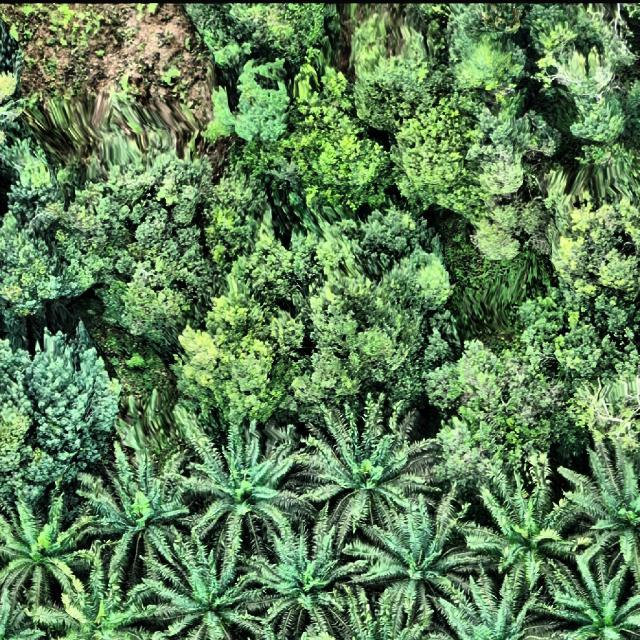Kelapa_Sawit: (2, 498, 88, 604), (98, 469, 197, 561), (204, 443, 296, 542), (481, 500, 578, 589), (322, 442, 422, 528), (147, 559, 253, 640), (258, 540, 360, 622), (374, 522, 466, 612), (572, 458, 640, 572), (556, 572, 640, 640)
